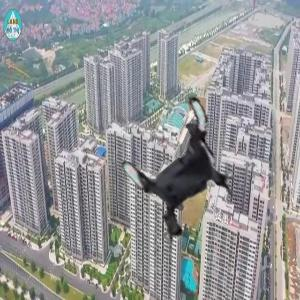drone: (119, 107, 249, 237)
